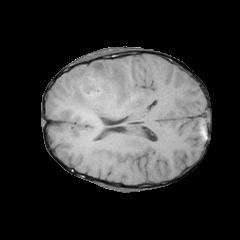glioma: (65, 61, 133, 117)
